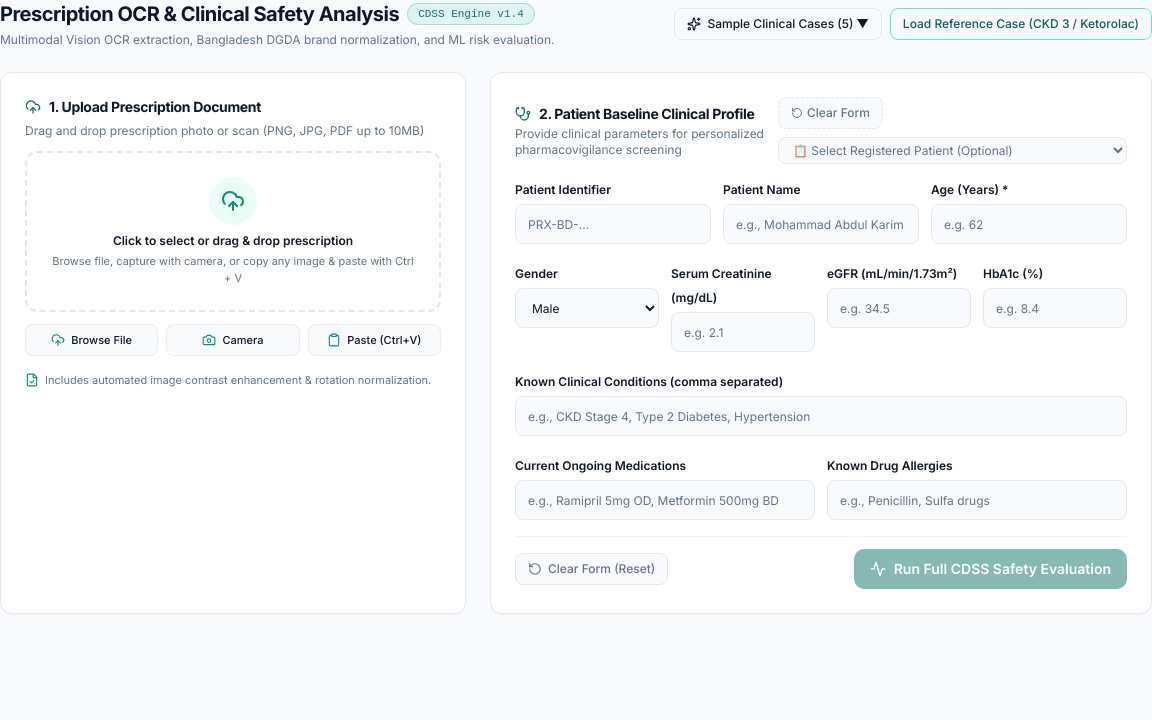
Test case: PrescriptionAnalysisPage › renders Reference Scenarios Switcher when toggled and allows switching cases
// Open sample cases
What coordinates should you click on to do the following:
click the button "Sample Clinical Cases (5) ▼"
I would click on:
 (778, 24)
Its box is [674,8,882,40].
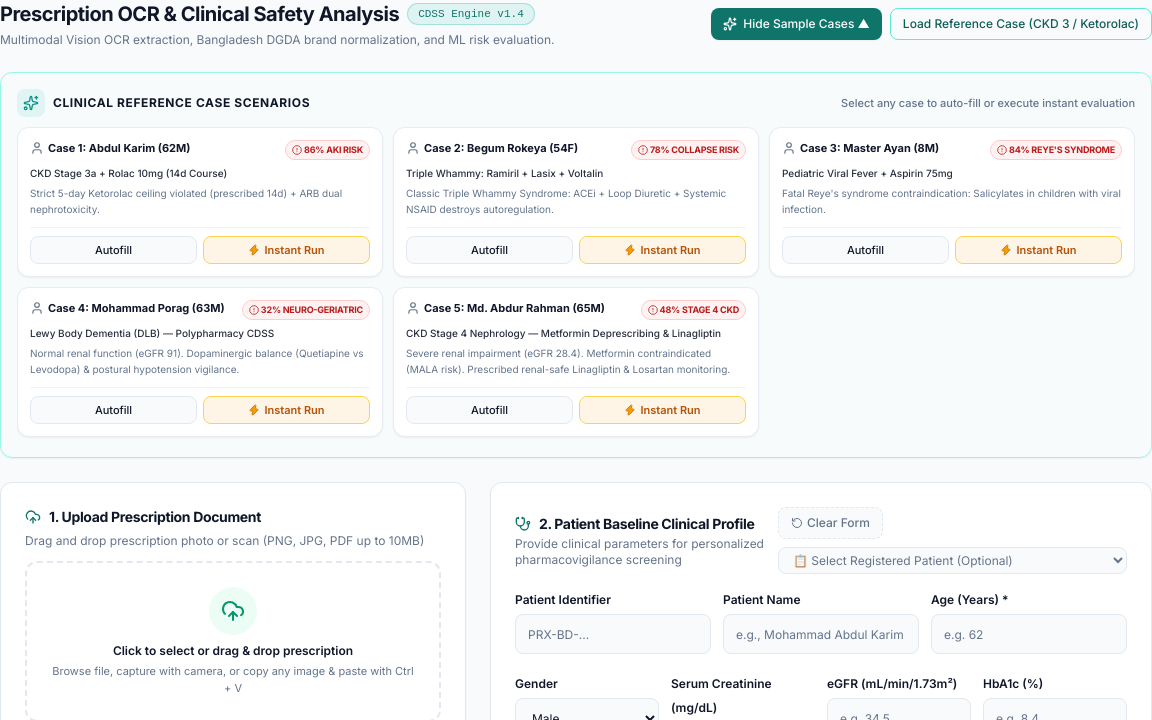
Check: the text "Clinical Reference Case Scenarios" is shown, box [53,95,310,111]
Check: the text "Case 1: Abdul Karim (62M)" is shown, box [48,140,190,156]
Check: the text "Case 2: Begum Rokeya (54F)" is shown, box [424,140,578,156]
// Click Autofill on Case 2 (Begum Rokeya)
What coordinates should you click on to do the following:
click the button with aria-label "Autofill Case 2: Begum Rokeya"
I would click on:
 (490, 250)
Its box is [406,236,573,264].
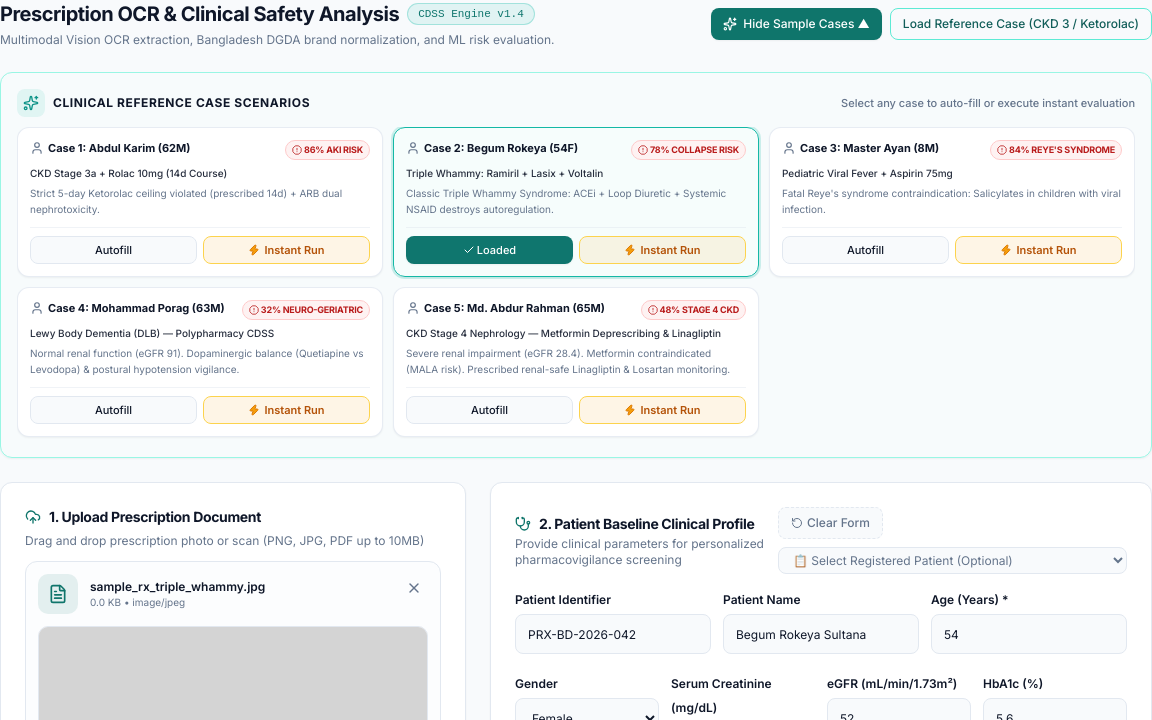
Check: the field showing "Begum Rokeya Sultana" below "Patient Name" is shown, box [723,614,919,654]
Check: the field showing "PRX-BD-2026-042" below "Patient Identifier" is shown, box [515,614,711,654]
// Click Autofill on Case 3 (Master Ayan)
What coordinates should you click on to do the following:
click the button with aria-label "Autofill Case 3: Master Ayan"
I would click on:
 (866, 250)
Its box is [782,236,949,264].
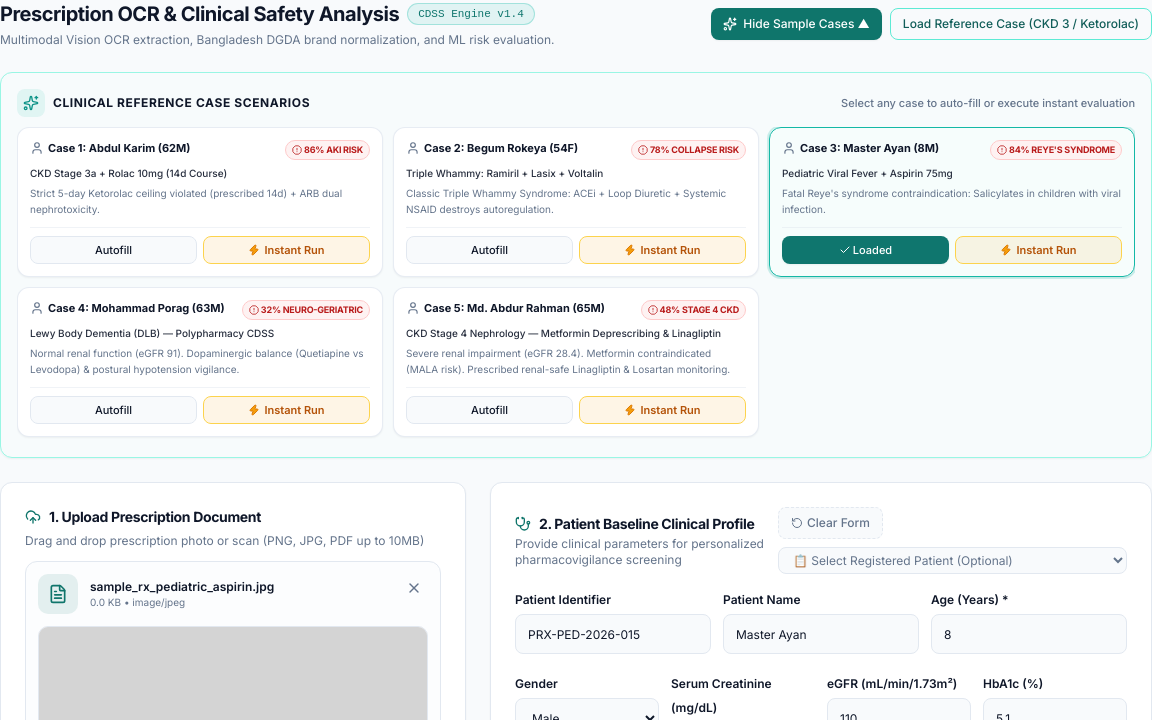
Check: the field showing "Master Ayan" below "Patient Name" is shown, box [723,614,919,654]
Check: the field showing "PRX-PED-2026-015" below "Patient Identifier" is shown, box [515,614,711,654]
